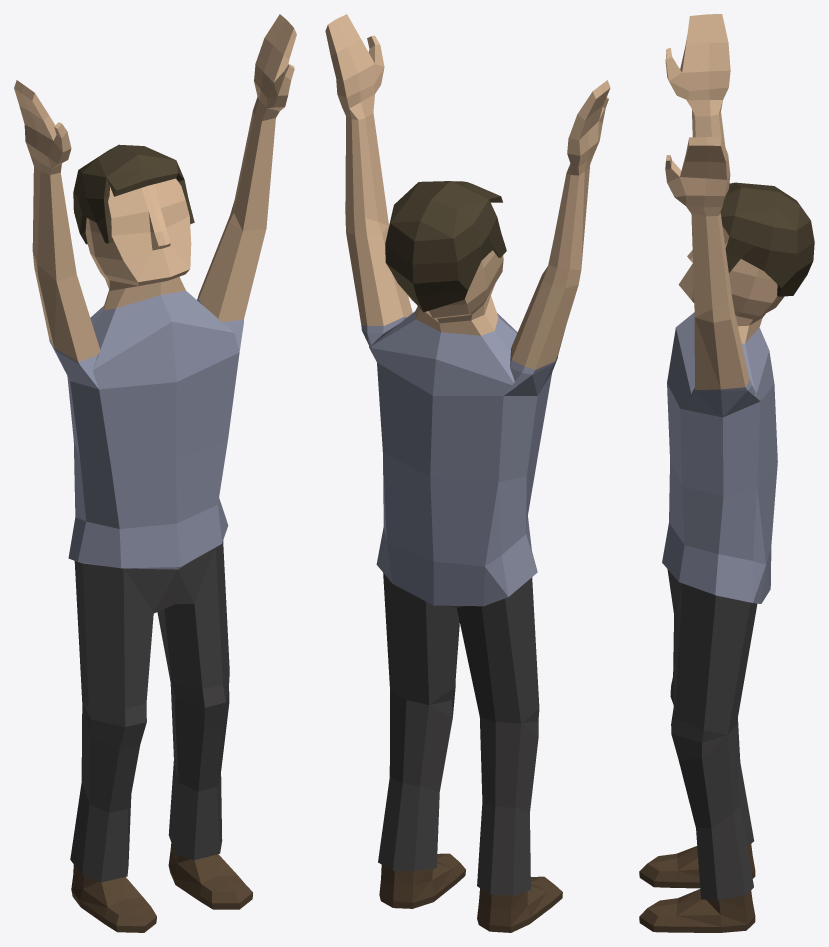
Rendered from Male_Crowd_BothArmsUp.glb.
3 renders of one model, left to right at view 1: azimuth 30°, elevation 25°; view 2: azimuth 150°, elevation 25°; view 3: azimuth 270°, elevation 25°, orthographic. The views are drawn at different scales.
Parts seen in each view (by area): view 1: Male_Crowd_BothArmsUp; view 2: Male_Crowd_BothArmsUp; view 3: Male_Crowd_BothArmsUp.
Part boxes in pixels (left/top/right/bottom): Male_Crowd_BothArmsUp: left=14, top=14, right=296, bottom=932; Male_Crowd_BothArmsUp: left=325, top=14, right=610, bottom=932; Male_Crowd_BothArmsUp: left=639, top=14, right=814, bottom=932.
Bounding box in the file's own units: 0.6899 × 2.07 × 0.3993.
